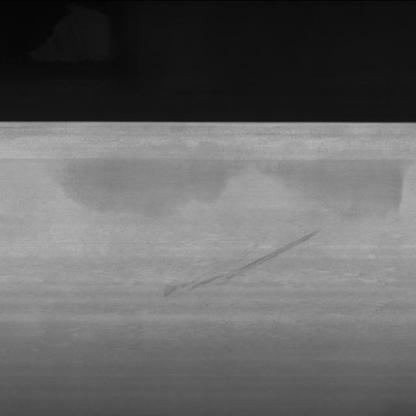water_spot: (148, 226, 328, 312)
